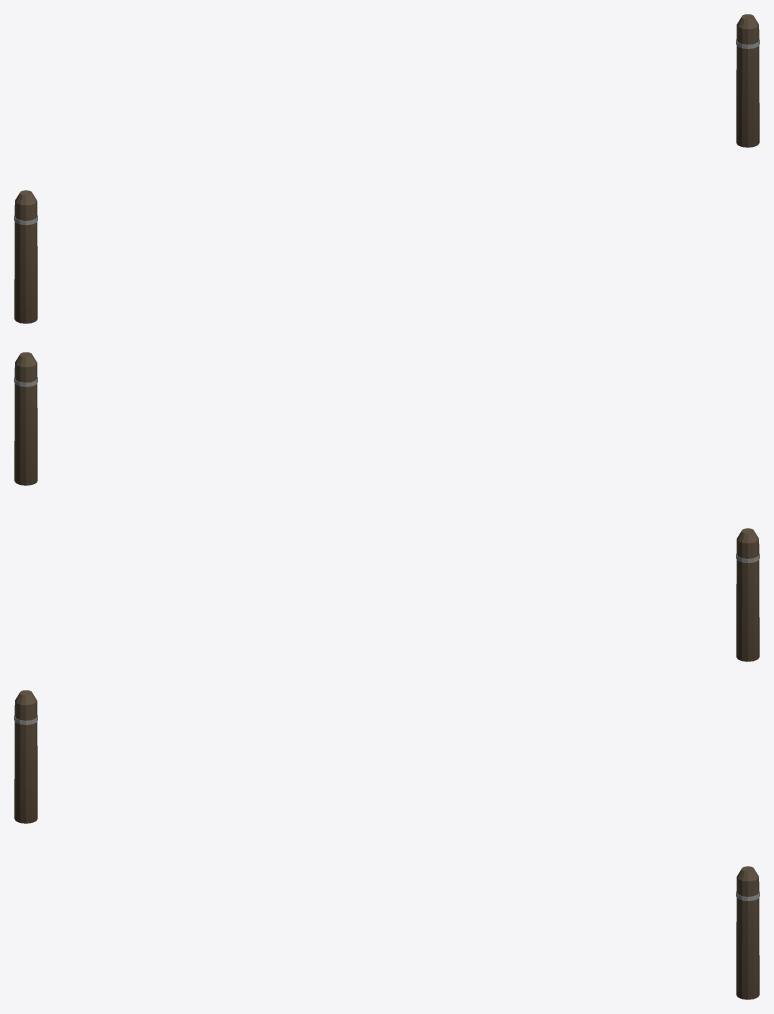
The model's file is boat_launch_bollards.glb.
3 views of the same model, one above another, from view 1: azimuth 30°, elevation 25°; view 2: azimuth 150°, elevation 25°; view 3: azimuth 330°, elevation 25° (orthographic).
Parts seen in each view (by area): view 1: boat_launch_bollard_l_LOD0, boat_launch_bollard_r_LOD0; view 2: boat_launch_bollard_r_LOD0, boat_launch_bollard_l_LOD0; view 3: boat_launch_bollard_l_LOD0, boat_launch_bollard_r_LOD0.
Part boxes in pixels (<box>): boat_launch_bollard_l_LOD0: <box>14,190,37,323</box>; boat_launch_bollard_r_LOD0: <box>736,14,759,147</box>; boat_launch_bollard_r_LOD0: <box>14,352,37,485</box>; boat_launch_bollard_l_LOD0: <box>736,528,759,661</box>; boat_launch_bollard_l_LOD0: <box>14,690,37,823</box>; boat_launch_bollard_r_LOD0: <box>736,866,759,999</box>.
Size of the model in its own units: 8.03 by 1.3 by 0.226.
